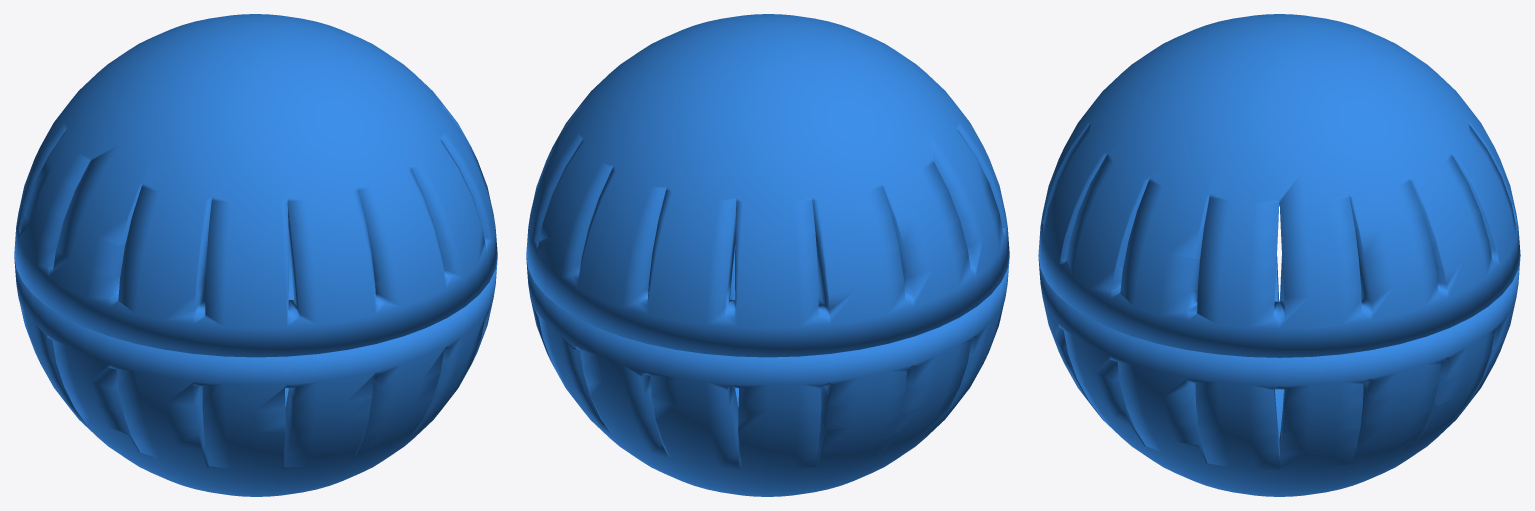
Rendered from Ball.dae.
3 renders of one model, left to right at view 1: azimuth 30°, elevation 25°; view 2: azimuth 150°, elevation 25°; view 3: azimuth 270°, elevation 25°, orthographic.
Visible parts, largest first — view 1: HAMSTER_BALL-2; view 2: HAMSTER_BALL-2; view 3: HAMSTER_BALL-2.
Boxes of the visible parts, x1,y1,x2,y2 form: HAMSTER_BALL-2: [14, 14, 497, 496]; HAMSTER_BALL-2: [526, 14, 1009, 496]; HAMSTER_BALL-2: [1038, 14, 1520, 496].
Size of the model in its own units: 0.1001 by 0.1 by 0.1001.
